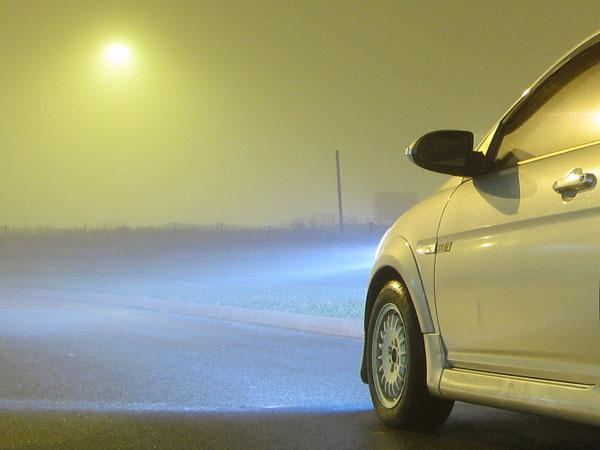car: (358, 31, 600, 429)
